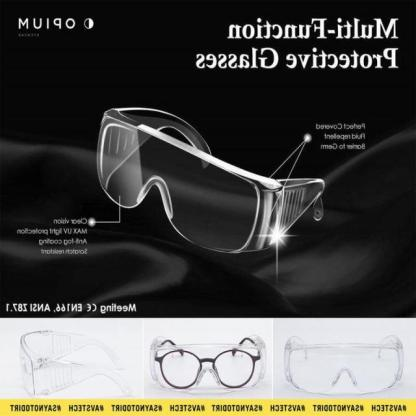oculos: (76, 89, 328, 260), (4, 323, 144, 398), (275, 321, 410, 397), (148, 323, 268, 396)
